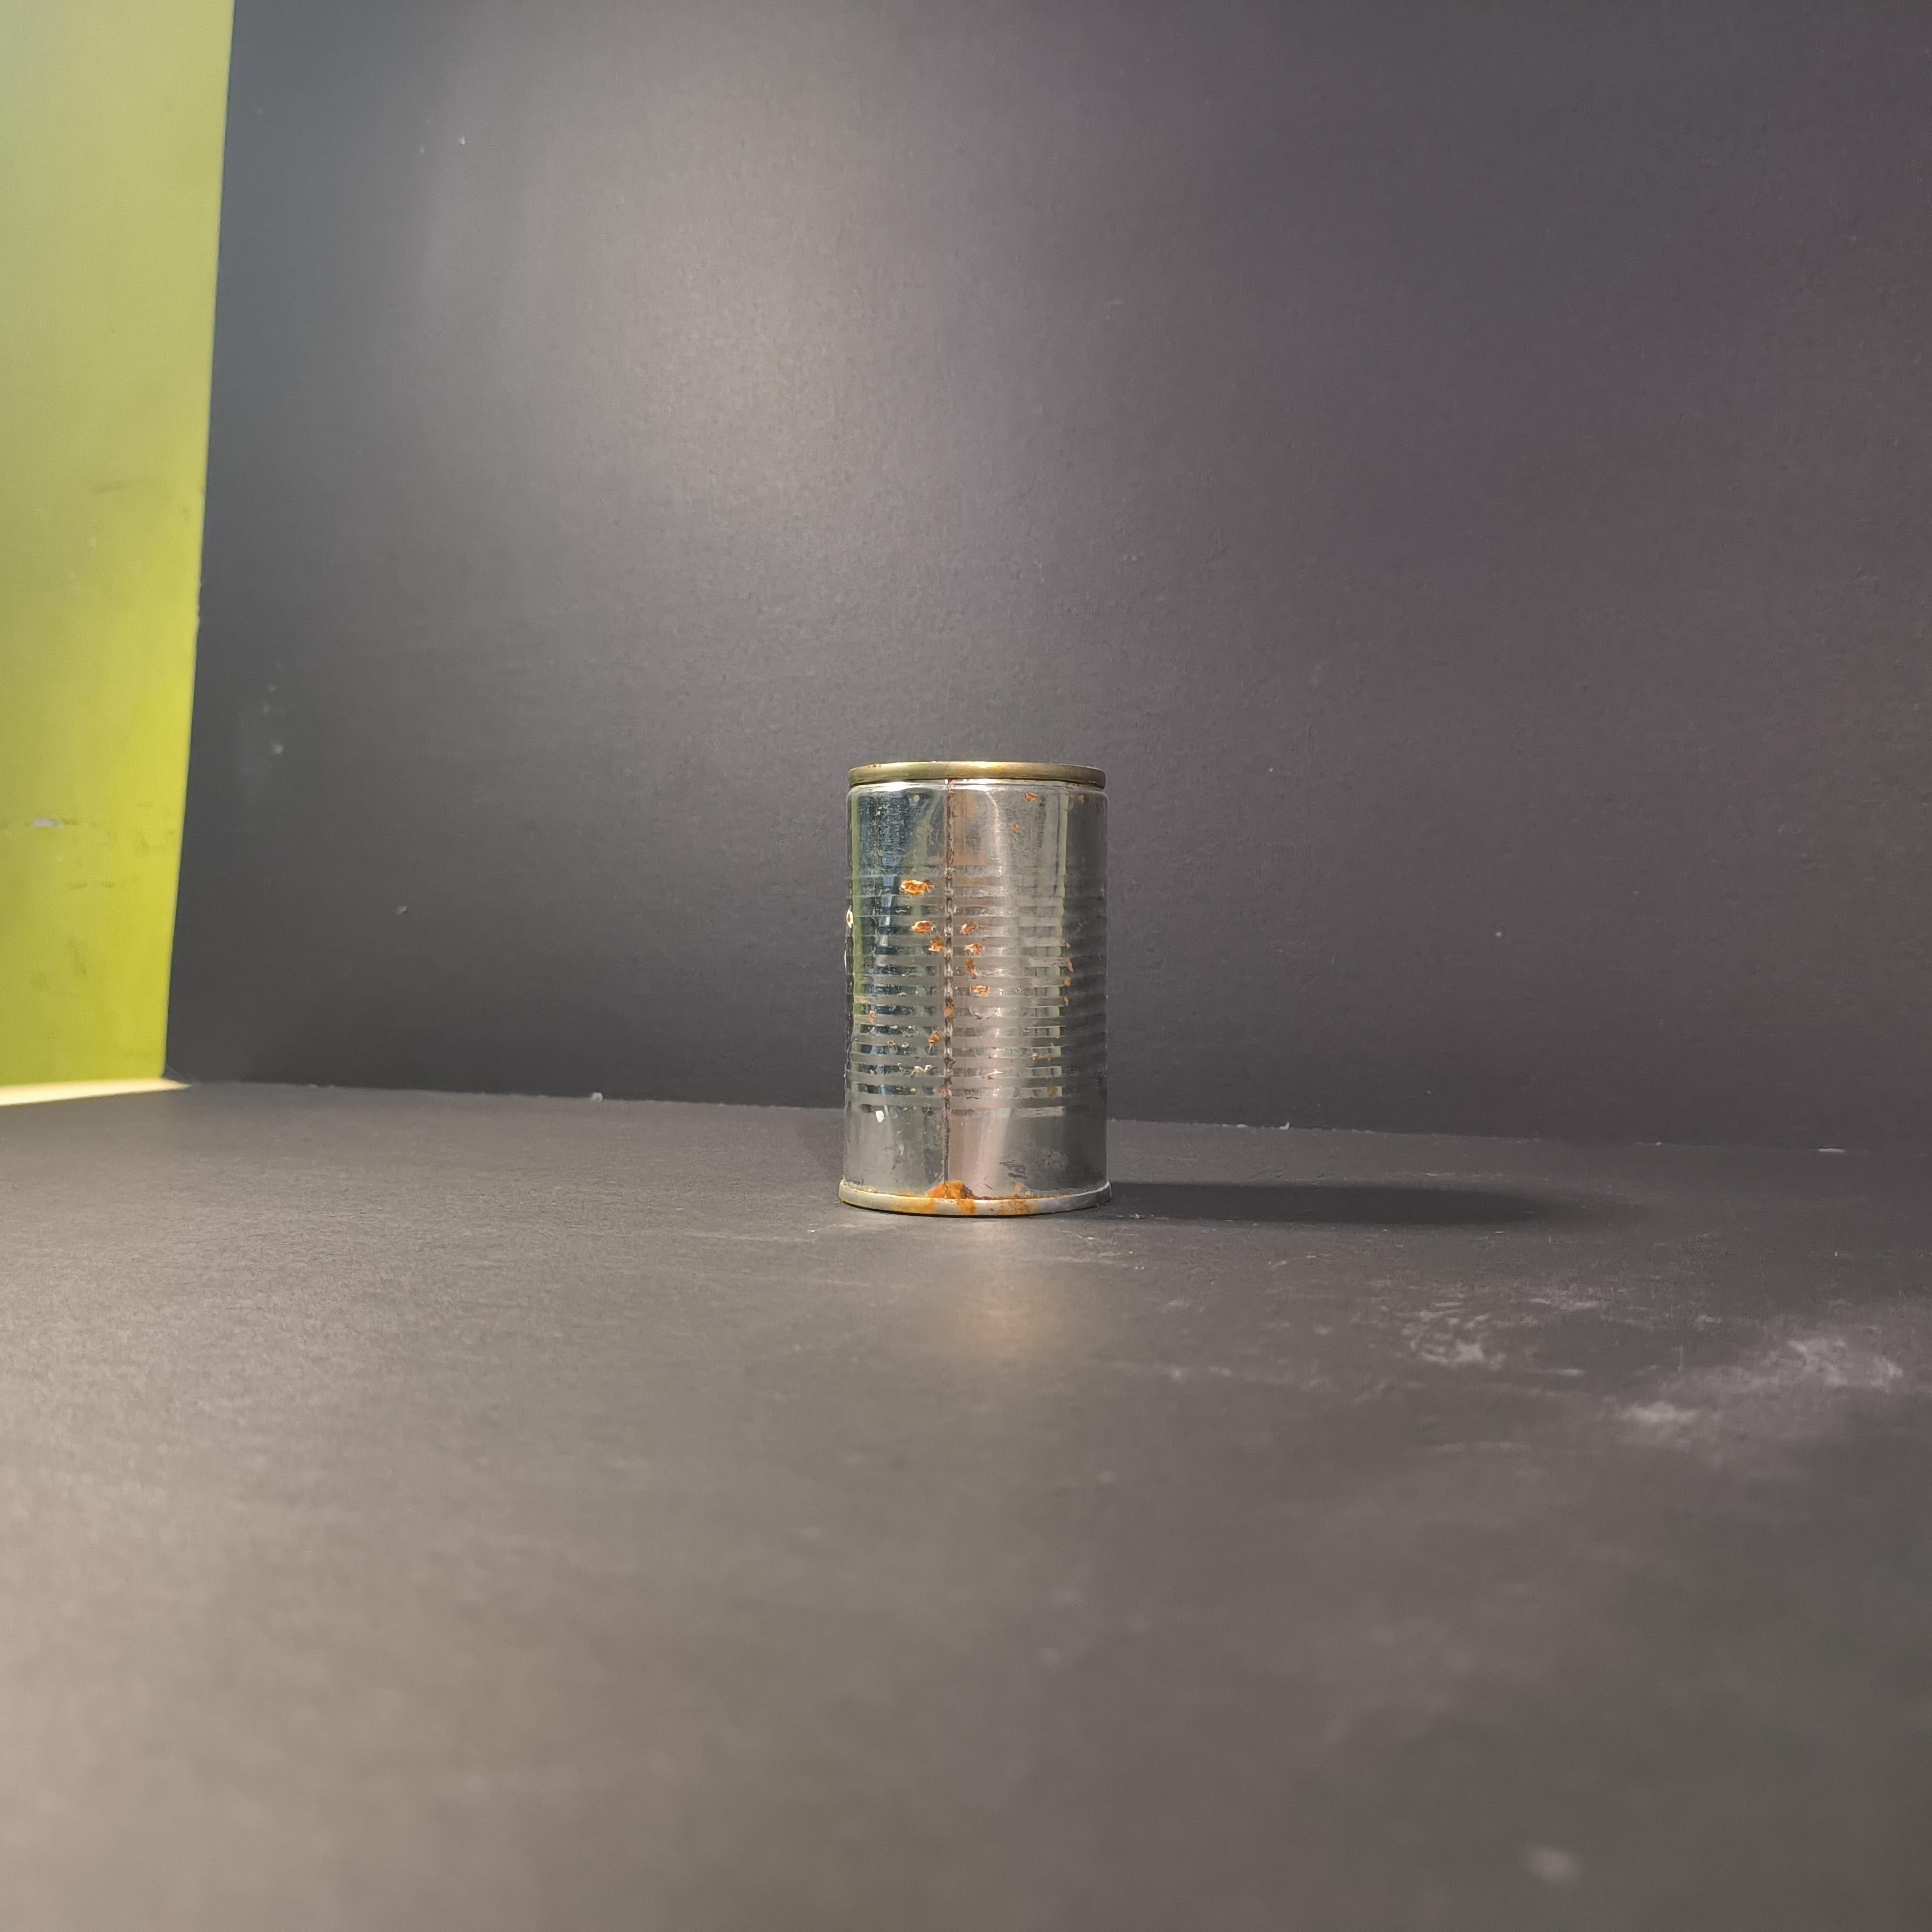Rusted: (837, 729, 1127, 1238)
